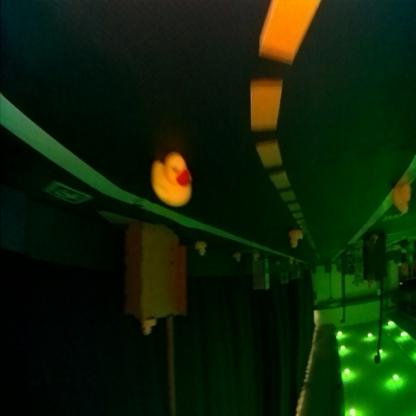Duckie: (152, 155, 193, 206), (393, 184, 412, 214), (289, 231, 304, 249), (143, 322, 153, 336), (197, 244, 207, 256), (234, 256, 240, 262)
QR code: (45, 181, 91, 206)
